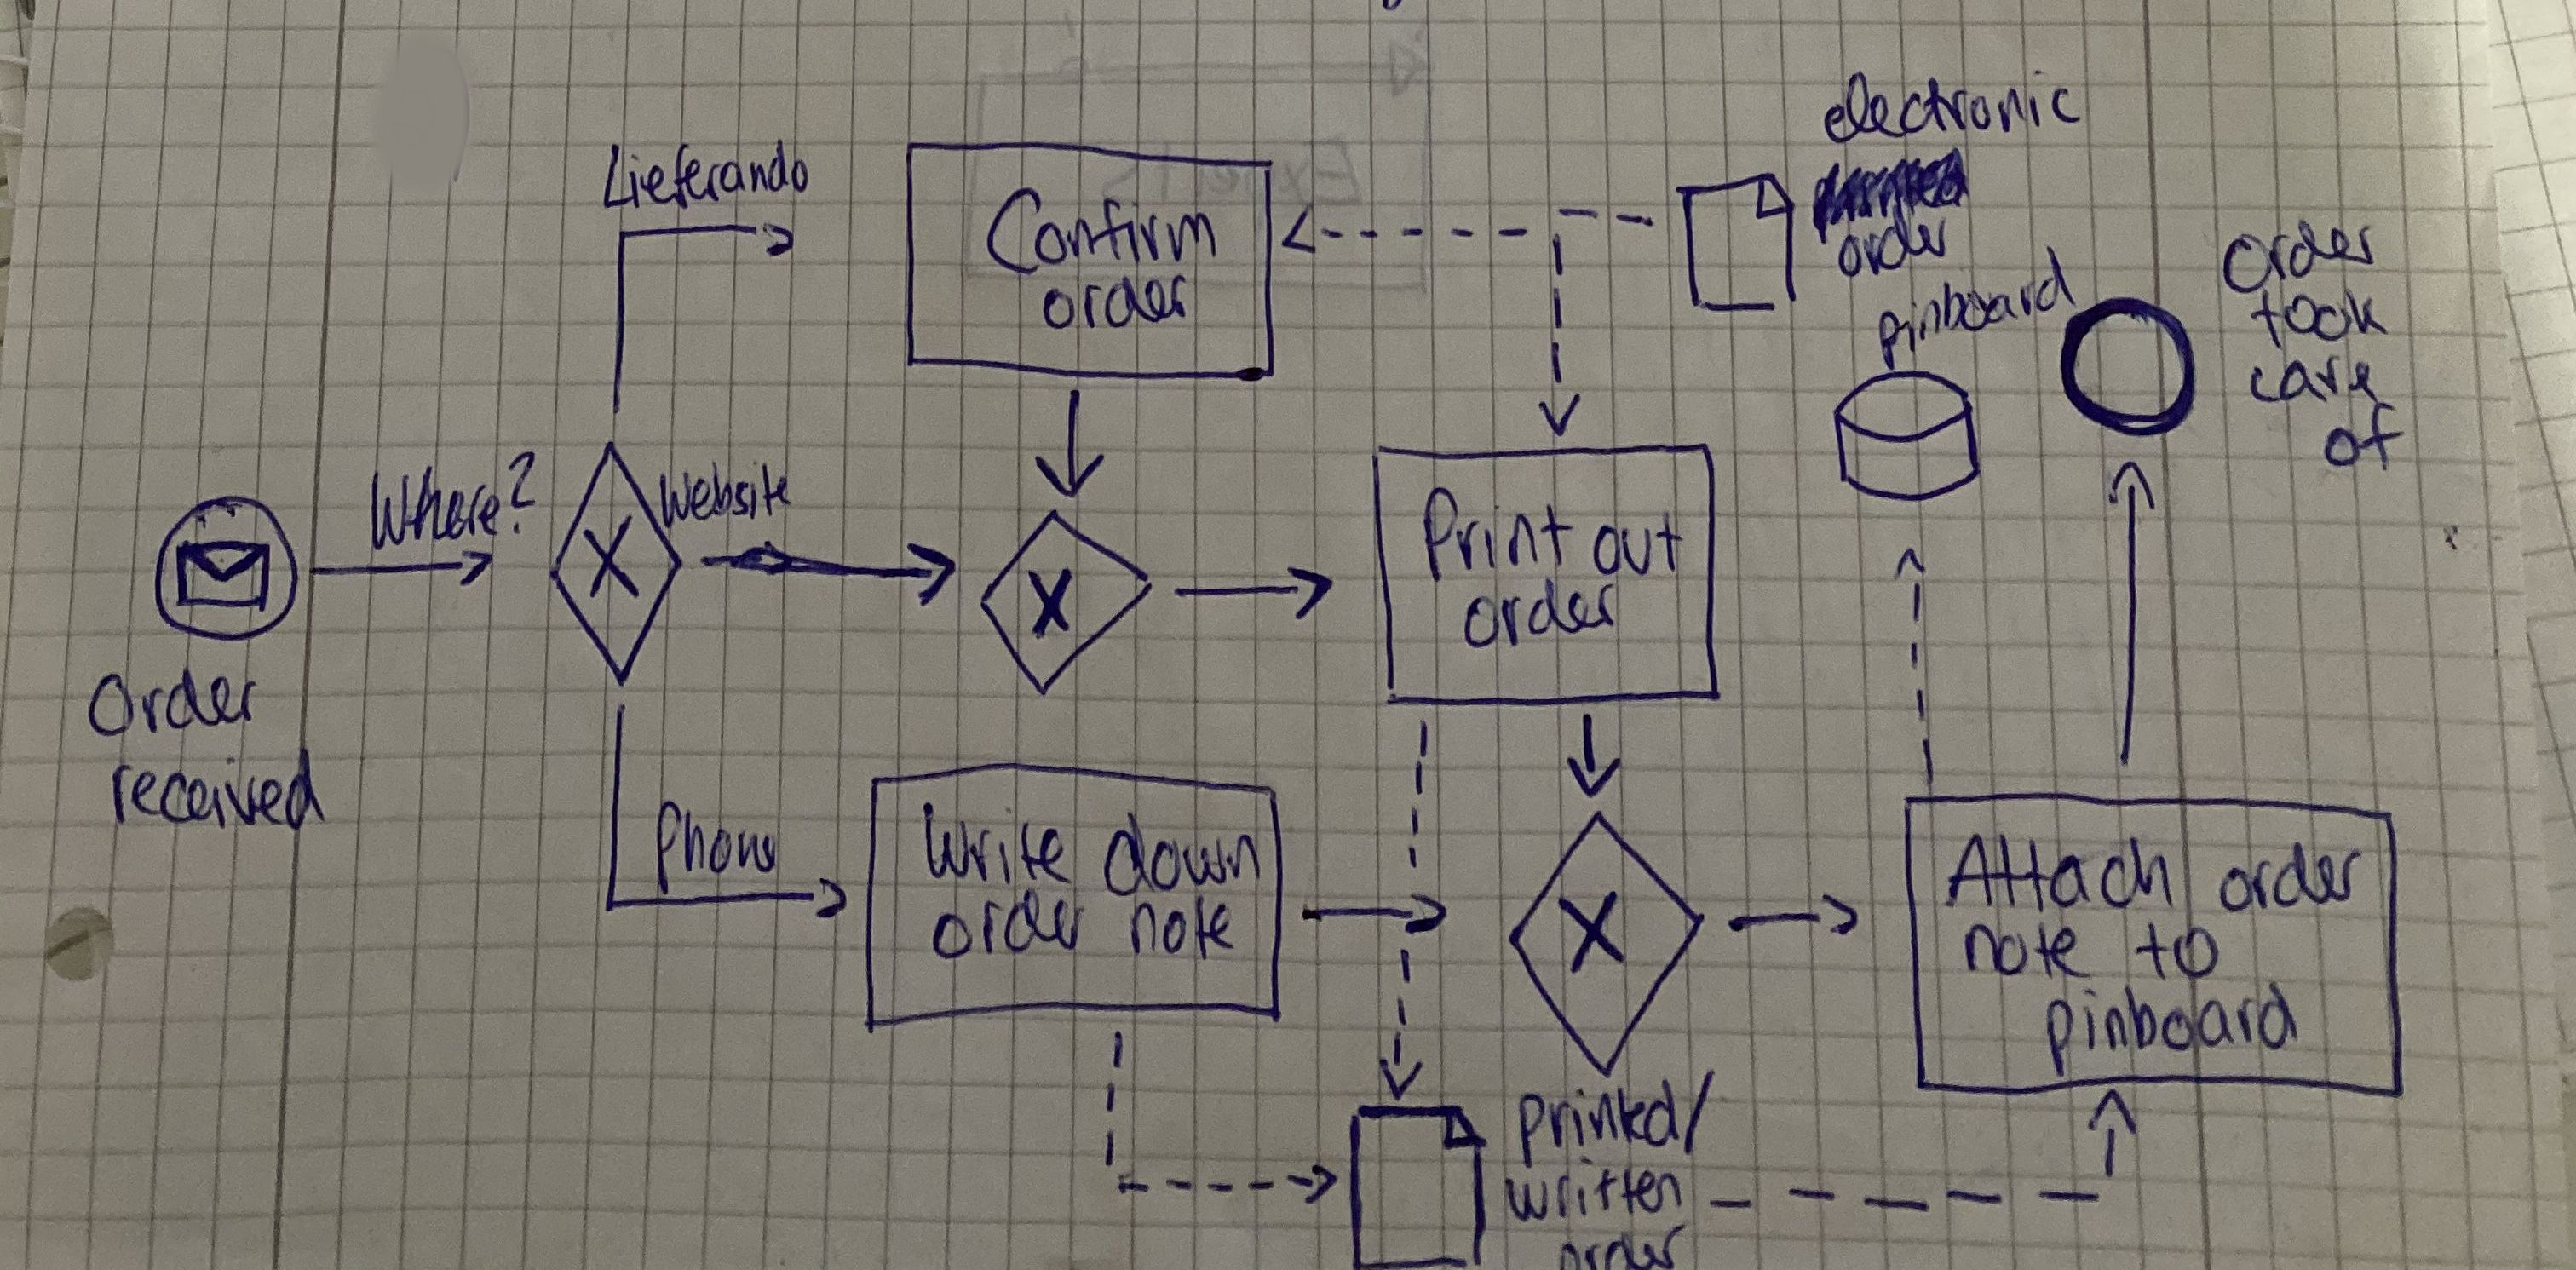Attach: (1942, 830, 2177, 910)
Confirm: (982, 186, 1217, 274)
Lieferando: (596, 133, 816, 212)
Order: (85, 667, 260, 736)
Phone: (649, 802, 777, 894)
Print: (1421, 488, 1574, 578)
Website: (657, 460, 793, 526)
Where?: (365, 450, 544, 550)
Write: (915, 803, 1078, 882)
care: (2246, 355, 2377, 409)
down: (1102, 813, 1260, 899)
electronic: (1822, 64, 2078, 145)
note: (1125, 894, 1237, 964), (1966, 925, 2095, 982)
of: (2320, 401, 2402, 473)
order: (927, 889, 1089, 959), (1462, 577, 1617, 651), (2213, 838, 2361, 912), (2211, 233, 2380, 297), (1042, 274, 1191, 334), (1825, 228, 1947, 286), (1557, 1226, 1689, 1268)
out: (1594, 513, 1686, 577)
pinboard: (2040, 984, 2298, 1078), (1863, 291, 2072, 376)
printed: (1511, 1074, 1718, 1160)
received: (107, 748, 327, 831)
to: (2137, 917, 2223, 984)
took: (2246, 286, 2387, 348)
written: (1505, 1157, 1682, 1222)
